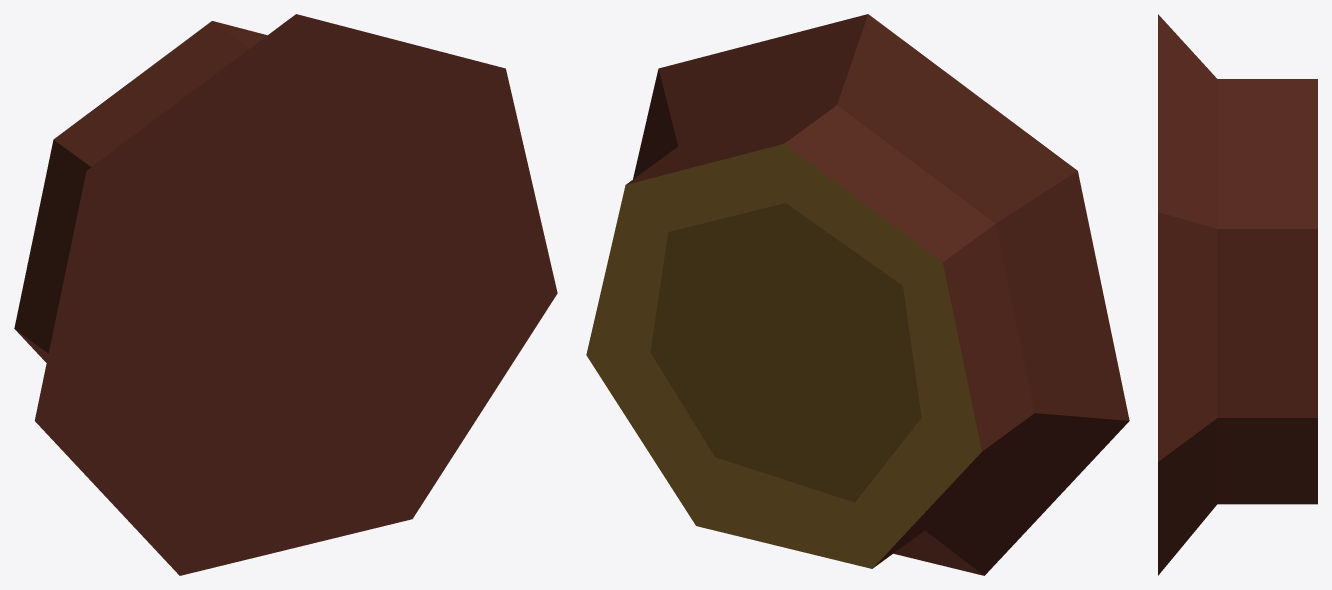
Rendered from trunk1.fbx.
3 renders of one model, left to right at view 1: azimuth 30°, elevation 25°; view 2: azimuth 150°, elevation 25°; view 3: azimuth 270°, elevation 25°, orthographic. The views are drawn at different scales.
Visible parts, largest first — view 1: Cylinder.032; view 2: Cylinder.032; view 3: Cylinder.032.
Boxes of the visible parts, x1=… form: Cylinder.032: x1=14, y1=14, x2=557, y2=575; Cylinder.032: x1=586, y1=14, x2=1129, y2=575; Cylinder.032: x1=1158, y1=14, x2=1317, y2=575.
Bounding box in the file's own units: 120 × 117 × 33.25.
